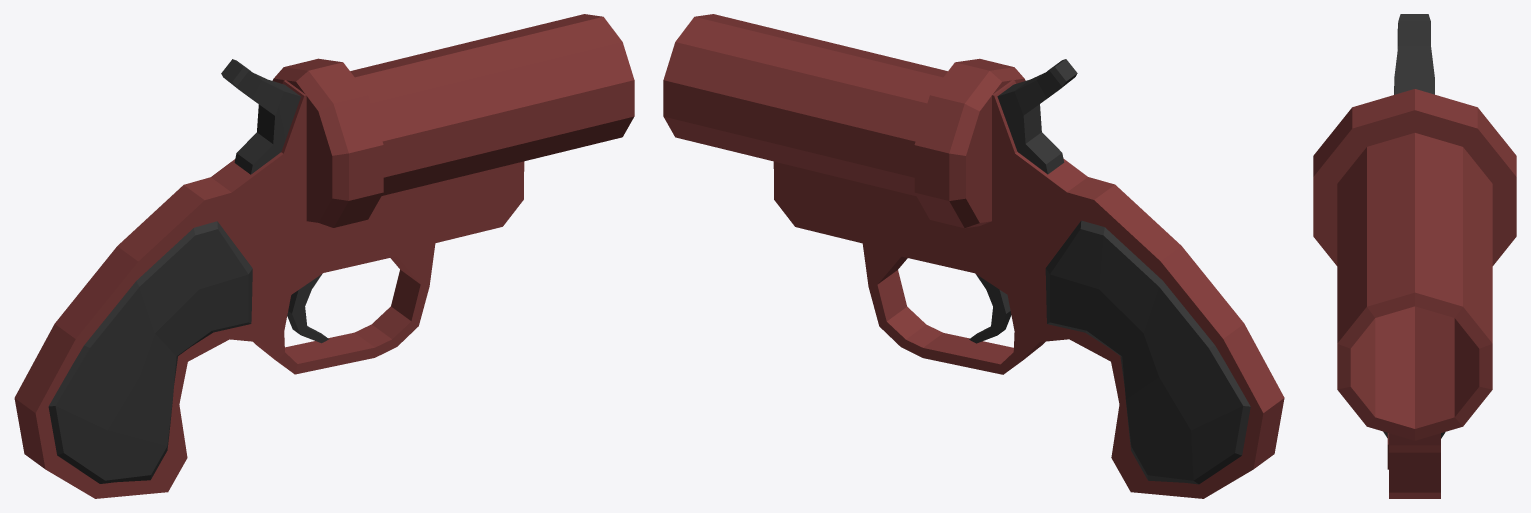
Rendered from flaregun.glb.
3 renders of one model, left to right at view 1: azimuth 30°, elevation 25°; view 2: azimuth 150°, elevation 25°; view 3: azimuth 270°, elevation 25°, orthographic. The views are drawn at different scales.
Parts seen in each view (by area): view 1: FlareGun; view 2: FlareGun; view 3: FlareGun.
Boxes of the visible parts, <box> form: FlareGun: <box>14,14,634,498</box>; FlareGun: <box>663,14,1284,498</box>; FlareGun: <box>1313,14,1516,498</box>.
Size of the model in its own units: 2.51 by 1.66 by 0.6033.
